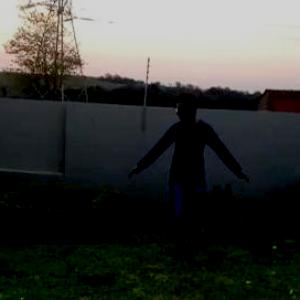land: (128, 93, 259, 278)
